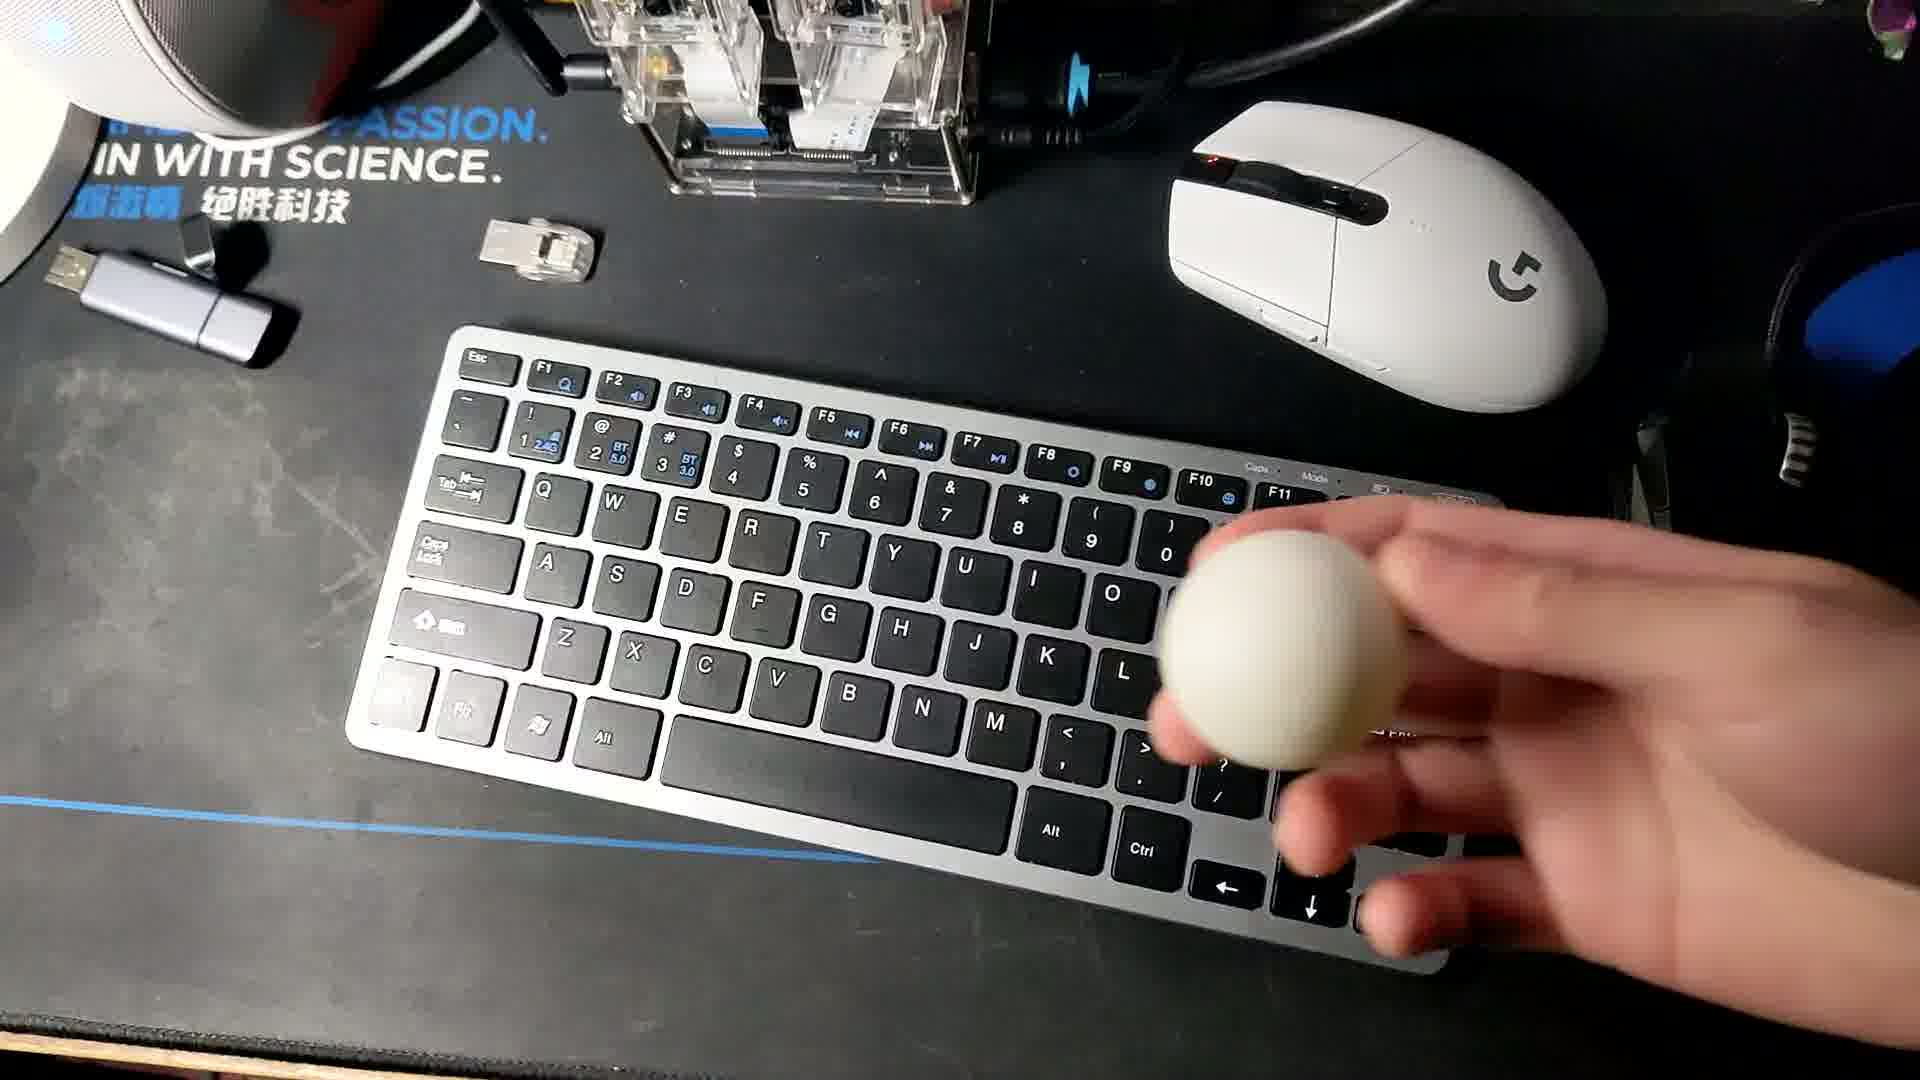Ball: (1150, 529, 1396, 775)
